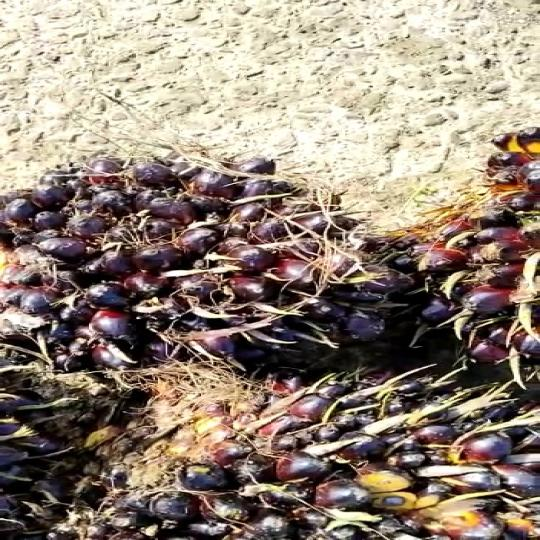kurang masak: (26, 126, 428, 378)
